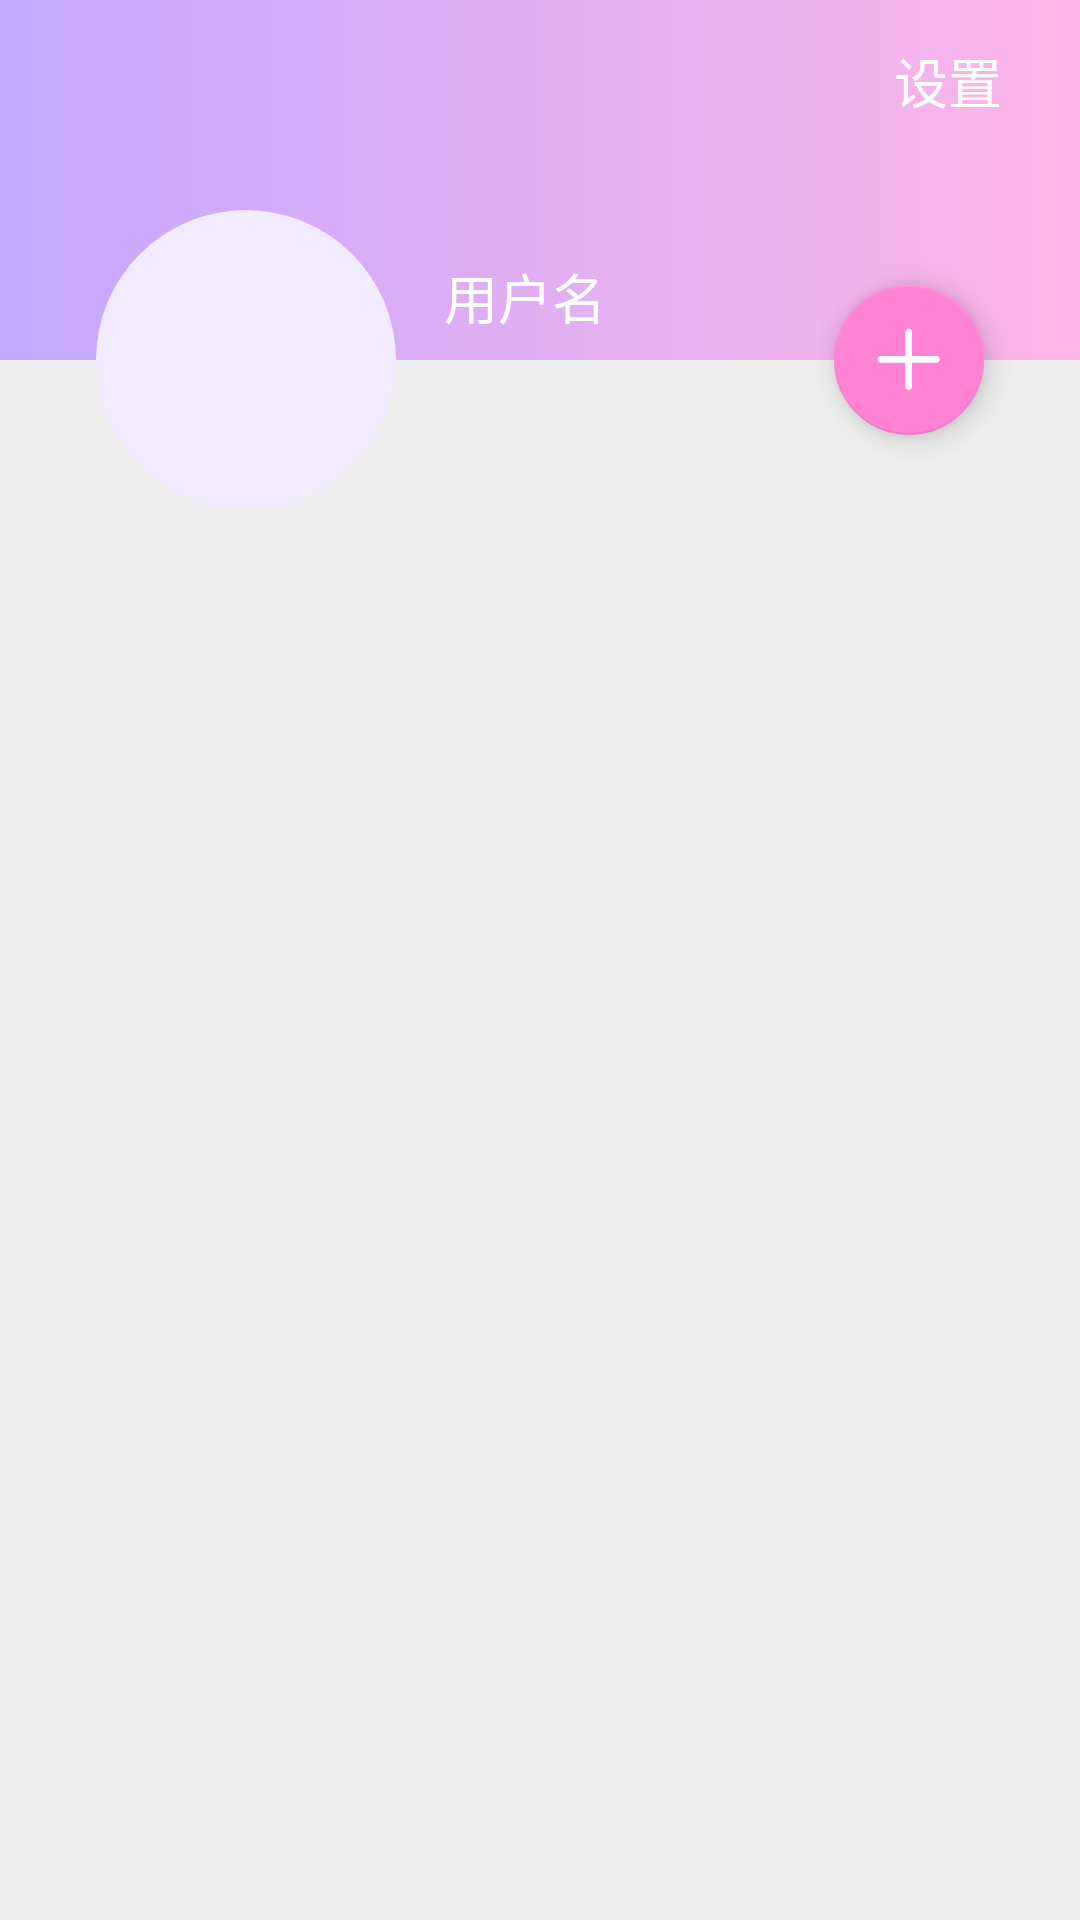

Where to tap for icons on this 1080px x 1920px app screen, as (x=x, y=y):
add: (x=909, y=360)
